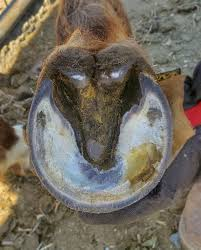horsesole: (27, 61, 173, 214)
